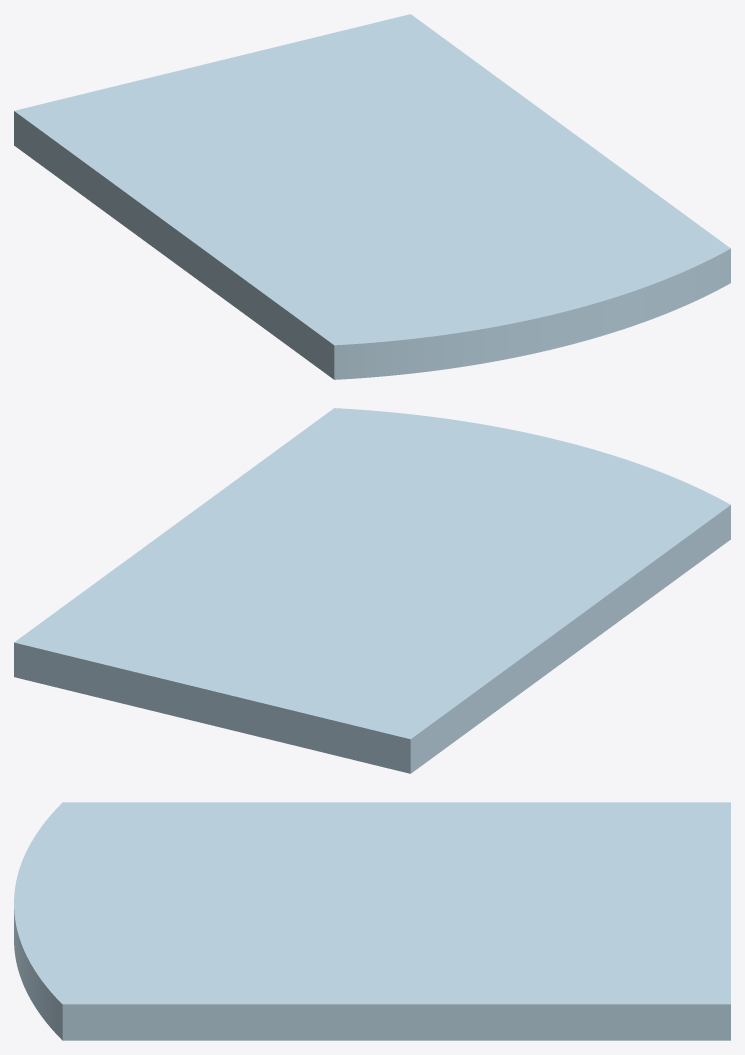
3 views of the same model, one above another, from view 1: azimuth 30°, elevation 25°; view 2: azimuth 150°, elevation 25°; view 3: azimuth 270°, elevation 25° (orthographic). The views are drawn at different scales.
Parts seen in each view (by area): view 1: PA-504-F_LOD0; view 2: PA-504-F_LOD0; view 3: PA-504-F_LOD0.
Part boxes in pixels (<box>): PA-504-F_LOD0: <box>14,14,730,379</box>; PA-504-F_LOD0: <box>14,408,730,773</box>; PA-504-F_LOD0: <box>14,802,730,1040</box>.
Bounding box in the file's own units: 60.96 × 5.08 × 91.43.
